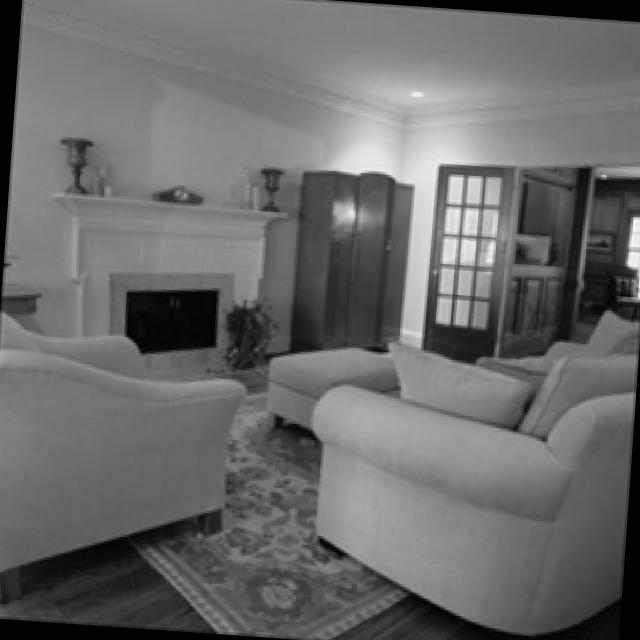2001: (630, 212, 640, 292)
armchair crop: (0, 308, 247, 601)
cabinets: (503, 271, 574, 350)
candles: (248, 175, 264, 206), (99, 163, 117, 189)
ceiling beam: (28, 0, 640, 117)
ceiling lamps: (416, 89, 426, 94)
chaise lounge: (478, 305, 640, 383)
clock crop: (156, 180, 206, 202), (161, 186, 211, 197)
door bars: (426, 163, 519, 357)
fireplace mantle: (54, 133, 293, 358), (56, 191, 287, 371)
framed picture: (592, 229, 623, 251)
ottoman: (268, 342, 402, 433)
pillow occluded: (394, 340, 533, 424), (528, 351, 638, 431)
plant -x: (228, 298, 280, 364)
rug -partially obscured-: (129, 389, 416, 634)
small table: (6, 278, 47, 314)
sofa bed: (324, 352, 636, 633)
vase -X: (65, 137, 94, 189), (268, 164, 291, 205)
wardrobe part: (296, 169, 417, 346)
